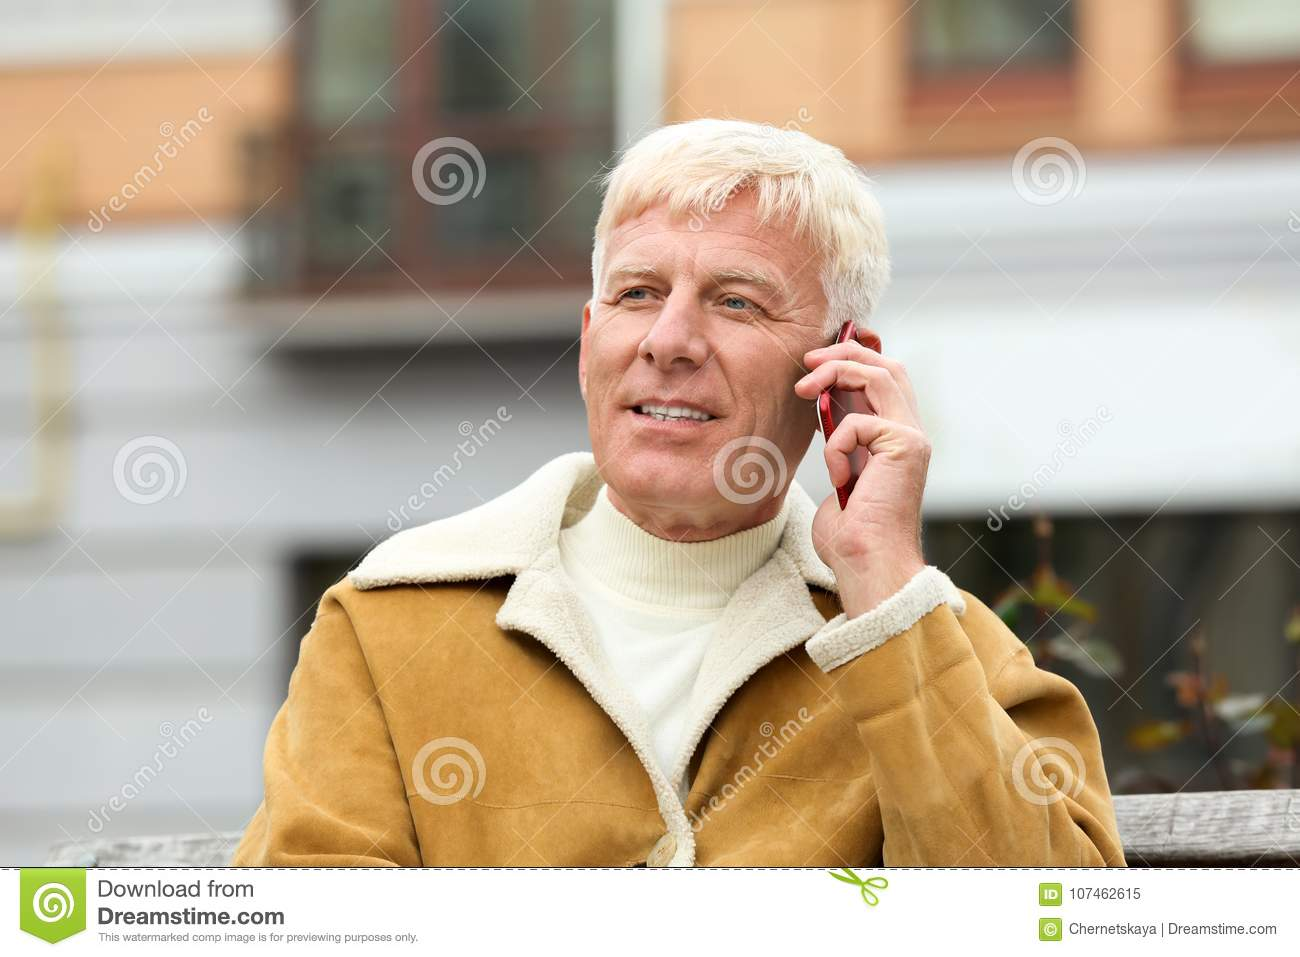phone: (811, 309, 880, 525)
talk: (597, 262, 928, 604)
